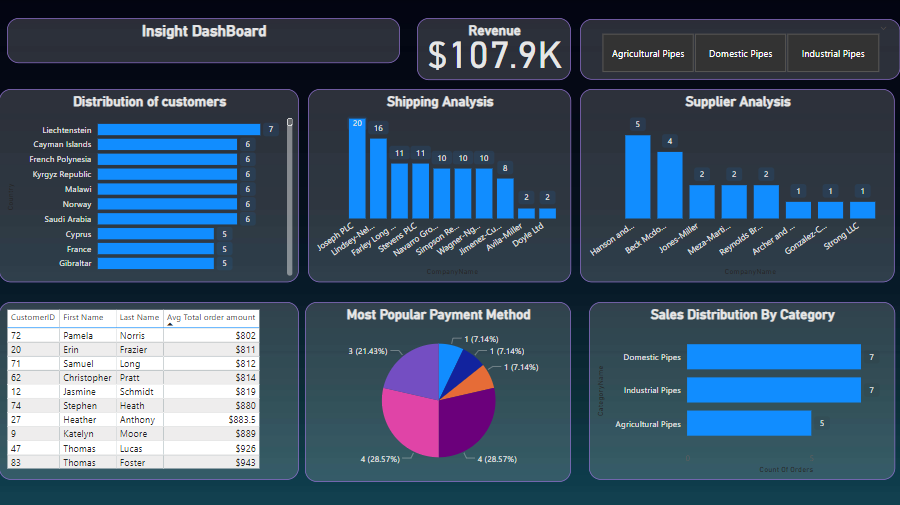

Layout of this report page (visuals, bound fields, positions):
{"tool":"powerbi","page":{"name":"Business Insights Overview","canvas":[1280,720],"ordinal":0},"visuals":[{"type":"barChart","title":"Distribution of customers","fields":{"Category":["Customers.country","Customers.city"],"Y":["Customers.customer_id"]},"box":[0,126.1,425.2,273.5],"z":0},{"type":"tableEx","title":"Top 10 Valuable Customers","fields":{"Values":["Orders.CustomerID","Customers.first_name","Customers.last_name","Orders.Total_order_amount"]},"box":[0,428,425.2,252.3],"z":1000},{"type":"card","title":"Revenue","fields":{"Values":["Orders.Total_order_amount"]},"box":[592.4,25.5,218.3,87.9],"z":2000},{"type":"columnChart","title":"Shipping Analysis","fields":{"Y":["Order_details.Quantity"],"Category":["Shipper.CompanyName"]},"box":[438,126.1,372.8,273.5],"z":3000},{"type":"pieChart","title":"Most Popular Payment Method","fields":{"Category":["Payments.PaymentType"],"Y":["Orders.PaymentID"]},"box":[433.7,428,377,255.1],"z":4000},{"type":"barChart","title":"Sales Distribution By Category","fields":{"Category":["Category.CategoryName"],"Y":["Order_details.OrderID"]},"box":[836.2,428,433.7,252.3],"z":5000},{"type":"columnChart","title":"Supplier Analysis","fields":{"Y":["Products.product_id"],"Category":["Suppliers.CompanyName"]},"box":[823.5,126.1,446.5,273.5],"z":6000},{"type":"slicer","title":"Select Category","fields":{"Values":["Category.CategoryName"]},"box":[823.5,26.9,453.5,86.5],"z":7000},{"type":"textbox","title":"Insight DashBoard","box":[11.3,25.5,557,63.8],"z":9000}]}

Visuals, with their boxes in screenshot pixels (x1, y1, x2, y2), scaled from the page's 1280x720 canvas onto the 900x505 screenshot:
"Distribution of customers" barChart: [0,88,299,280]
"Top 10 Valuable Customers" tableEx: [0,300,299,477]
"Revenue" card: [417,18,570,80]
"Shipping Analysis" columnChart: [308,88,570,280]
"Most Popular Payment Method" pieChart: [305,300,570,479]
"Sales Distribution By Category" barChart: [588,300,893,477]
"Supplier Analysis" columnChart: [579,88,893,280]
"Select Category" slicer: [579,19,898,80]
"Insight DashBoard" textbox: [8,18,400,63]
